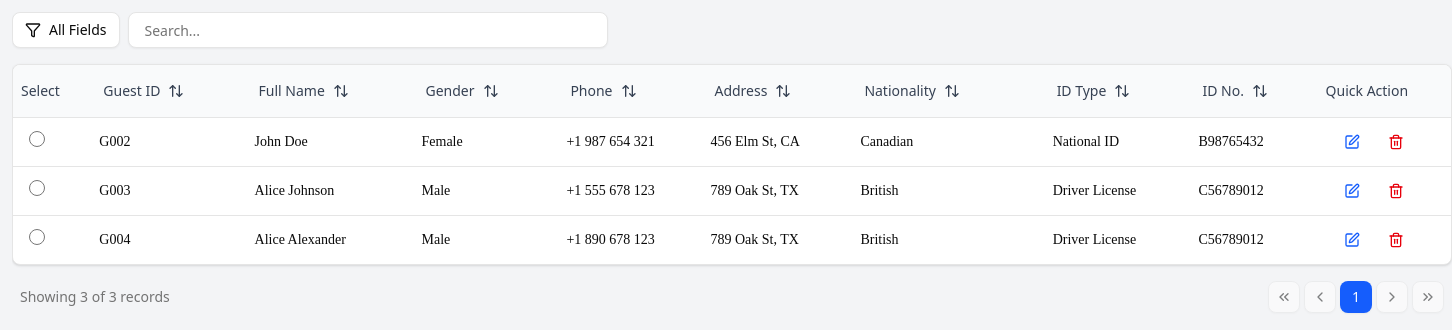
Scenario: CustomTable Component › handles row selection when enabled
Click the radio button next to "G002" at (37, 139), box left=29, top=131, right=45, bottom=147
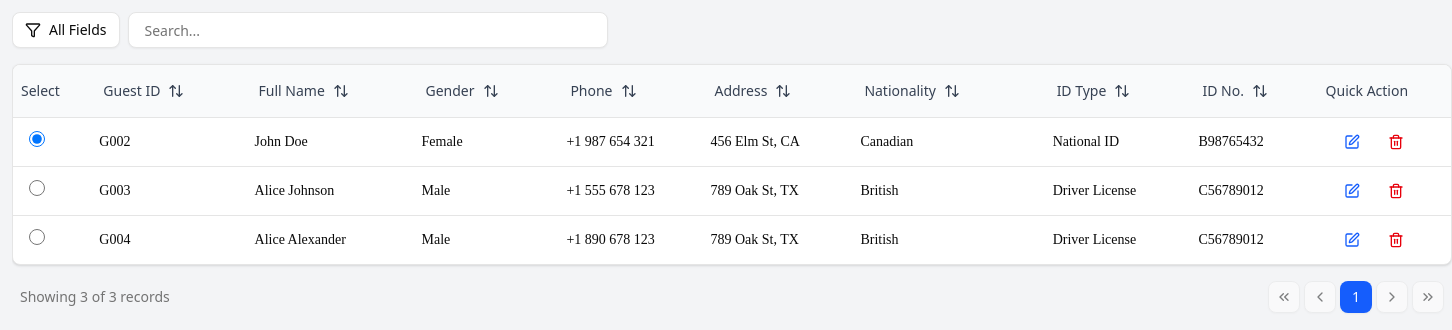
Expected: the radio button next to "G003" is not checked, left=29, top=180, right=45, bottom=196
Now the radio button next to "G002" is checked, box left=29, top=131, right=45, bottom=147
